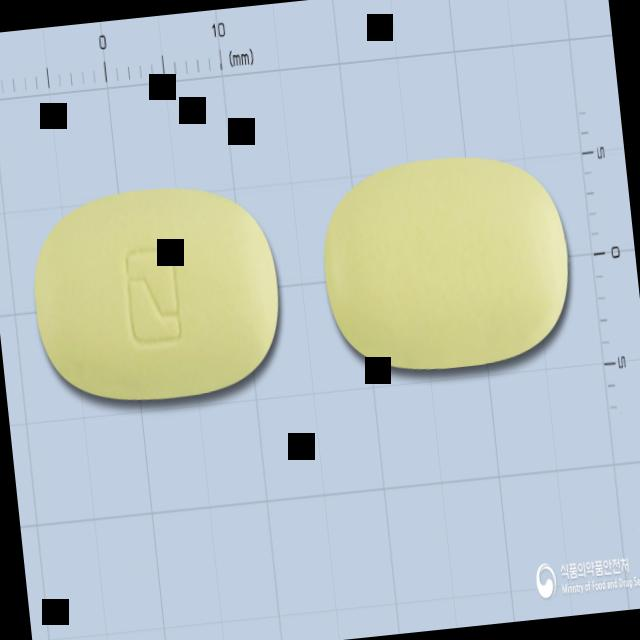Cefix Cap: (312, 142, 580, 382), (22, 175, 288, 412)
